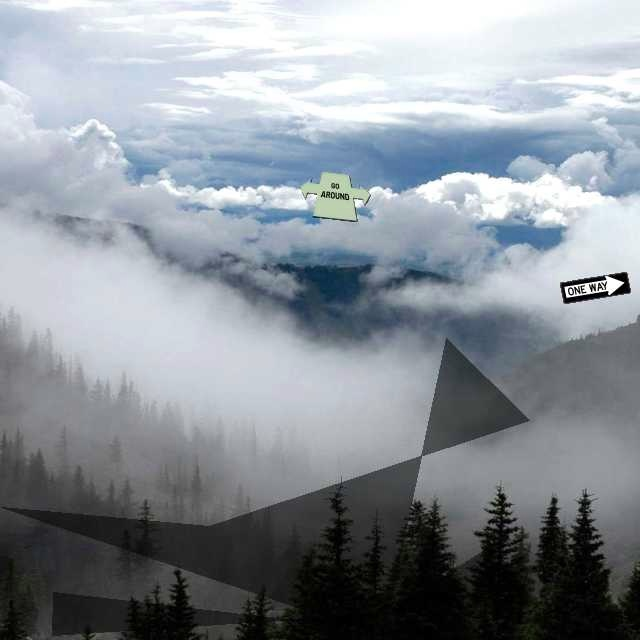GO_AROUND: (299, 171, 371, 222)
ONE_WAY_ right: (559, 271, 631, 304)
